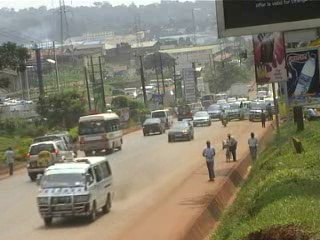Car: (26, 140, 84, 183), (166, 119, 195, 144), (137, 117, 167, 136), (190, 111, 213, 128), (173, 101, 193, 120), (207, 102, 222, 120), (219, 100, 232, 111)
Motorcycle: (218, 109, 229, 128)
